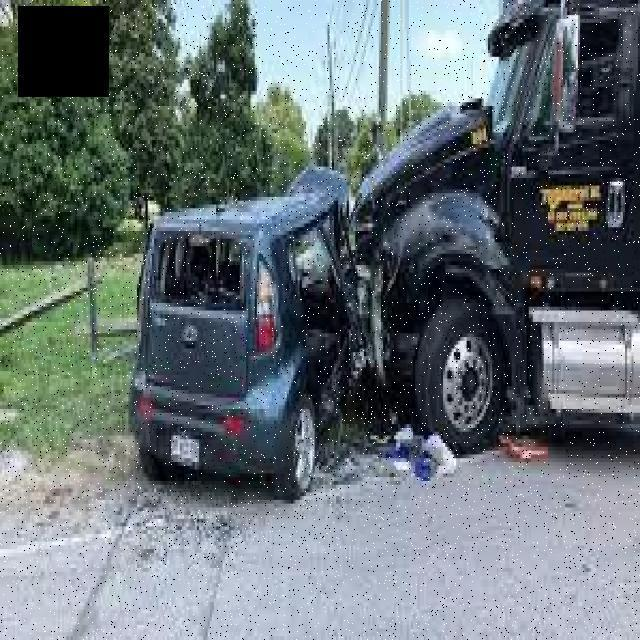multiple_accident: (112, 17, 640, 544)
